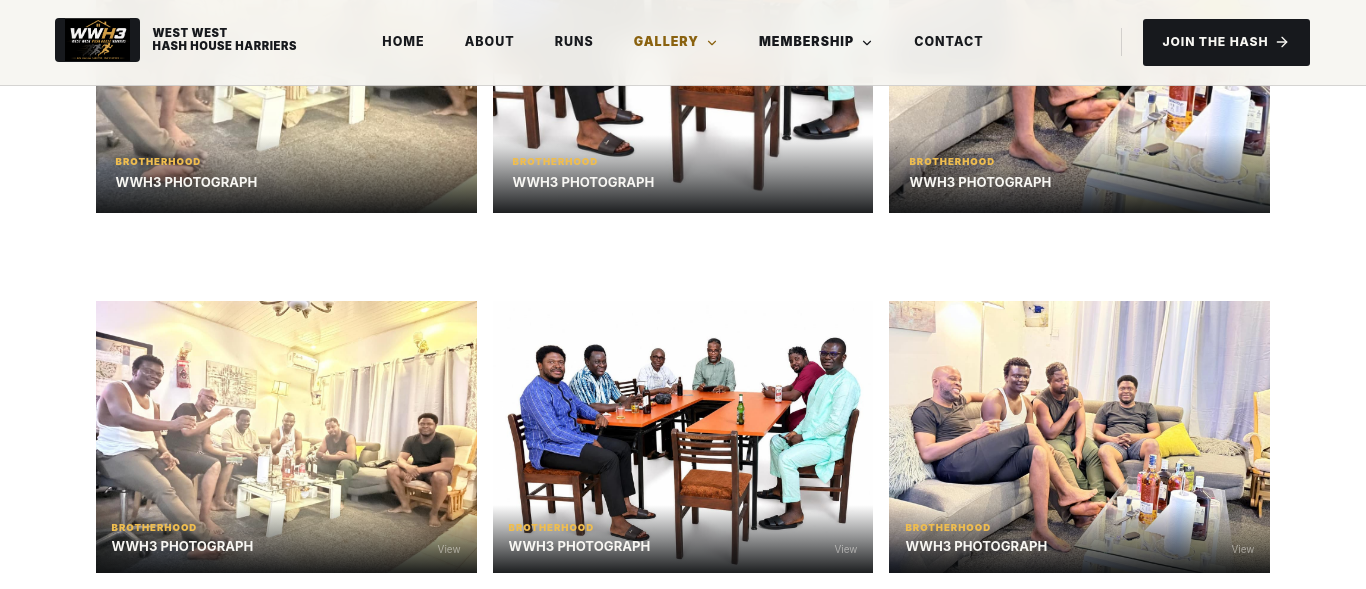
Scenario: gallery dialog › opens a labelled dialog describing the photograph
(page scrolled)
Click the button with aria-label "enlarge photograph": {"x": 286, "y": 437} [96,301,476,573]
(page scrolled)
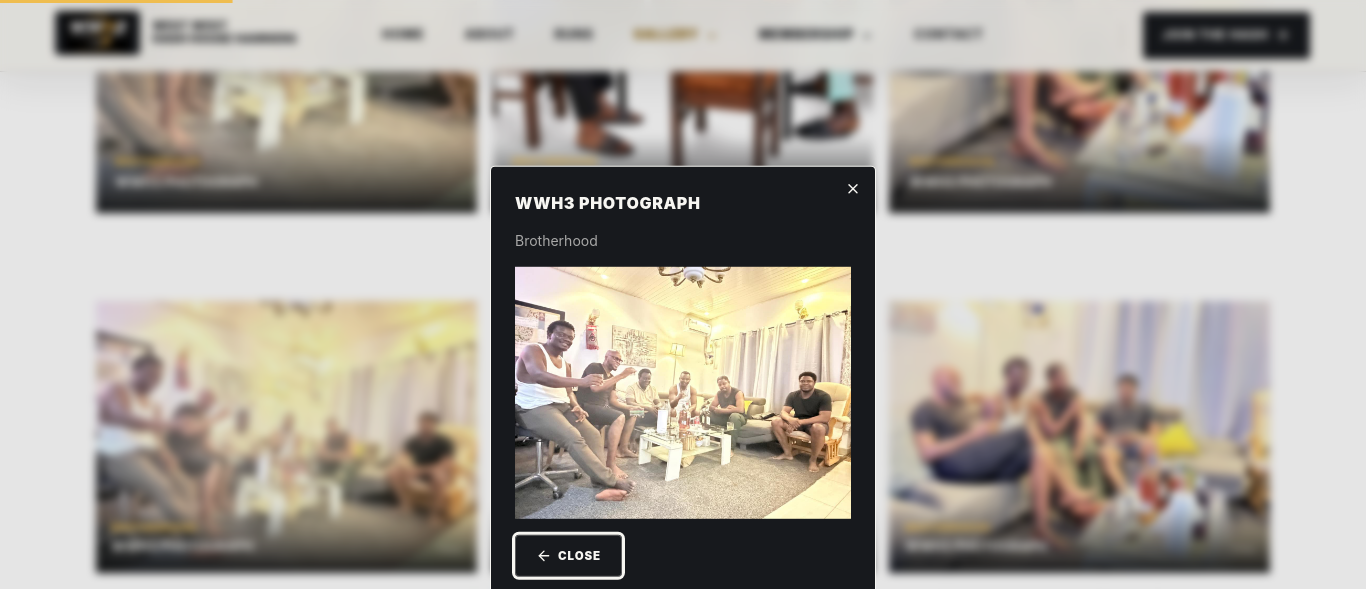
Now the picture is shown, box [515,267,851,519]
